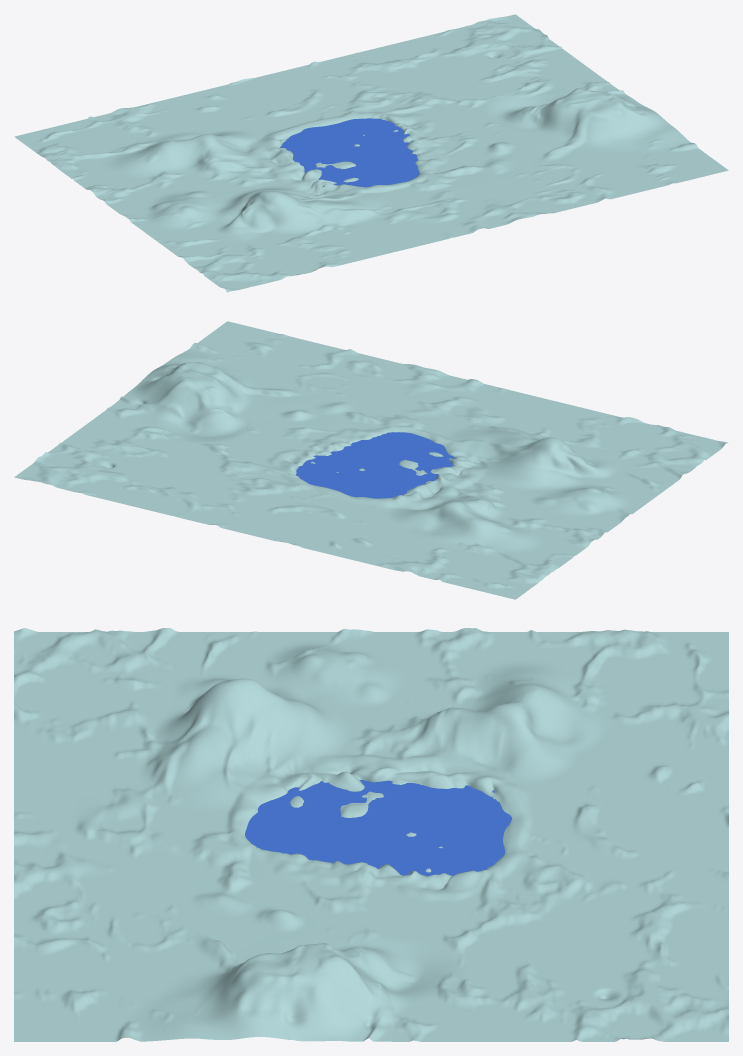
File: landscape.fbx
3 renders of one model, top to bottom at view 1: azimuth 30°, elevation 25°; view 2: azimuth 150°, elevation 25°; view 3: azimuth 270°, elevation 25°, orthographic. The views are drawn at different scales.
Visible parts, largest first — view 1: ground, lake; view 2: ground, lake; view 3: ground, lake.
Boxes of the visible parts, x1=… form: ground: x1=14, y1=14, x2=728, y2=292; lake: x1=280, y1=118, x2=419, y2=187; ground: x1=14, y1=321, x2=728, y2=599; lake: x1=296, y1=432, x2=454, y2=498; ground: x1=14, y1=628, x2=728, y2=1041; lake: x1=245, y1=780, x2=511, y2=876.
Bounding box in the file's own units: 8168 × 594 × 6000.
